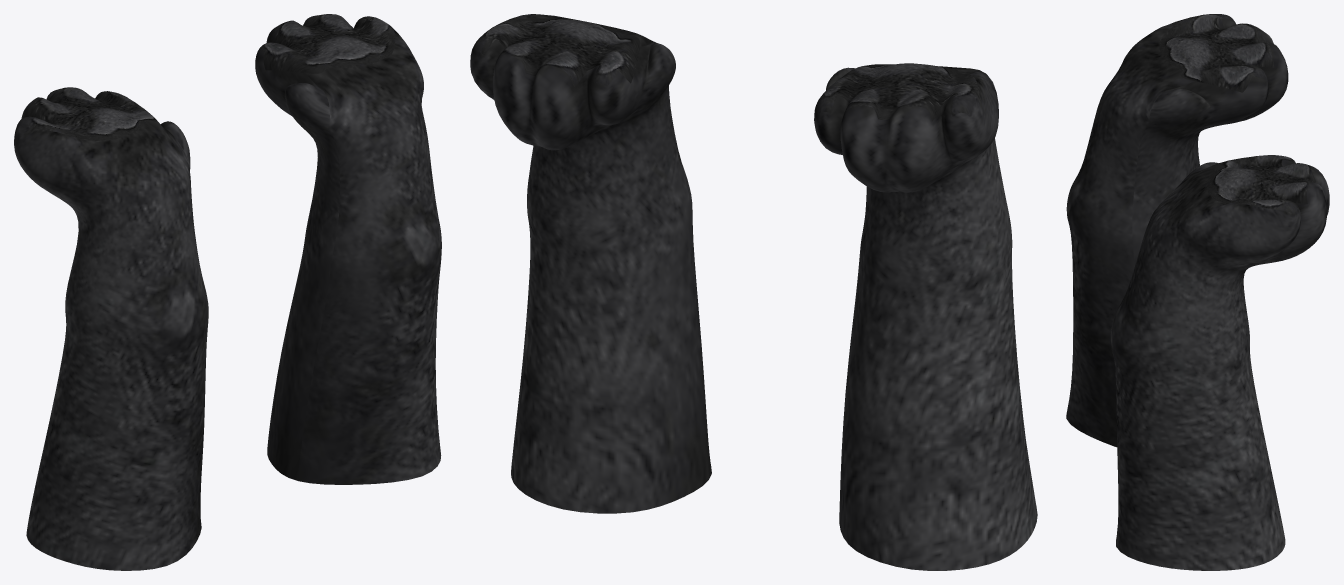
Rendered from cat-hand.obj.
3 views of the same model, side by side, from view 1: azimuth 30°, elevation 25°; view 2: azimuth 150°, elevation 25°; view 3: azimuth 270°, elevation 25° (orthographic). The views are drawn at different scales.
Visible parts, largest first — view 1: 12222_Cat_v1_l3.004; view 2: 12222_Cat_v1_l3.004; view 3: 12222_Cat_v1_l3.004.
Part boxes in pixels (x1,y1,x2,y2): 12222_Cat_v1_l3.004: [14, 14, 441, 570]; 12222_Cat_v1_l3.004: [470, 14, 1037, 570]; 12222_Cat_v1_l3.004: [1066, 14, 1329, 570].
Size of the model in its own units: 12.31 by 11.65 by 7.22.
